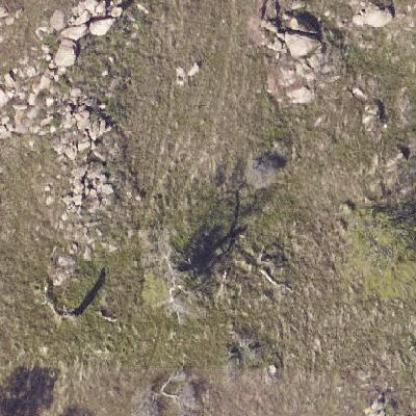tree-top: (337, 202, 415, 304)
